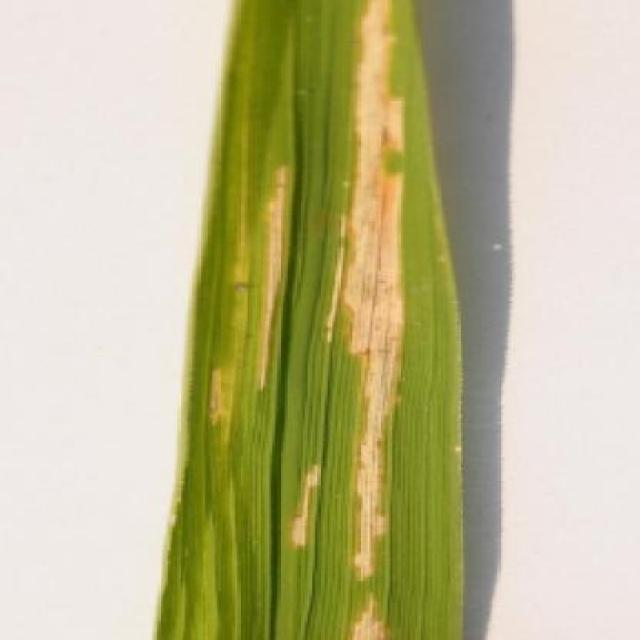Brown_Spot: (152, 0, 474, 640)
